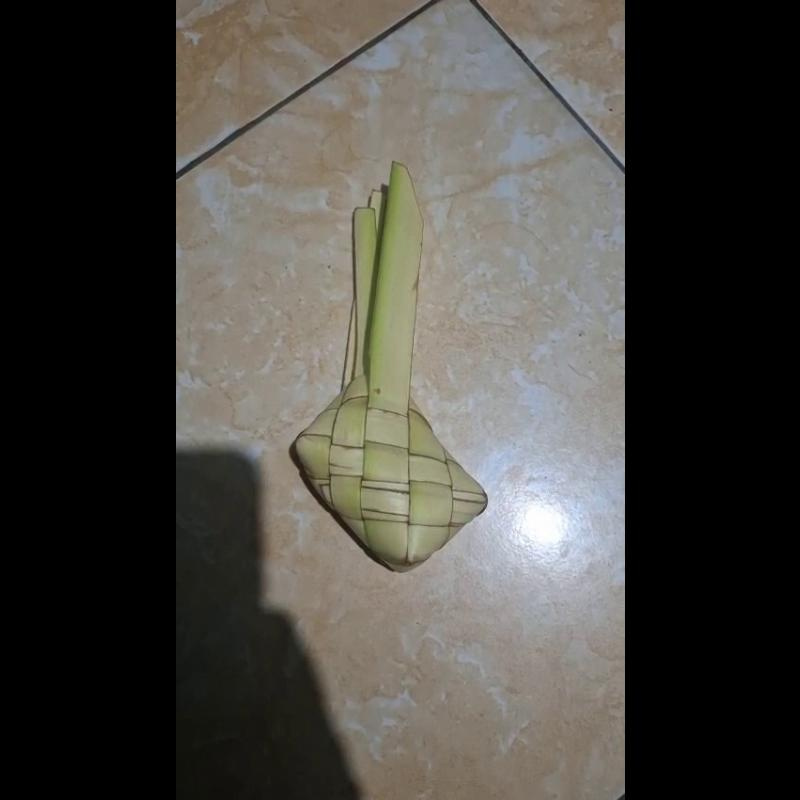Tipat Bantal: (286, 160, 482, 570)
